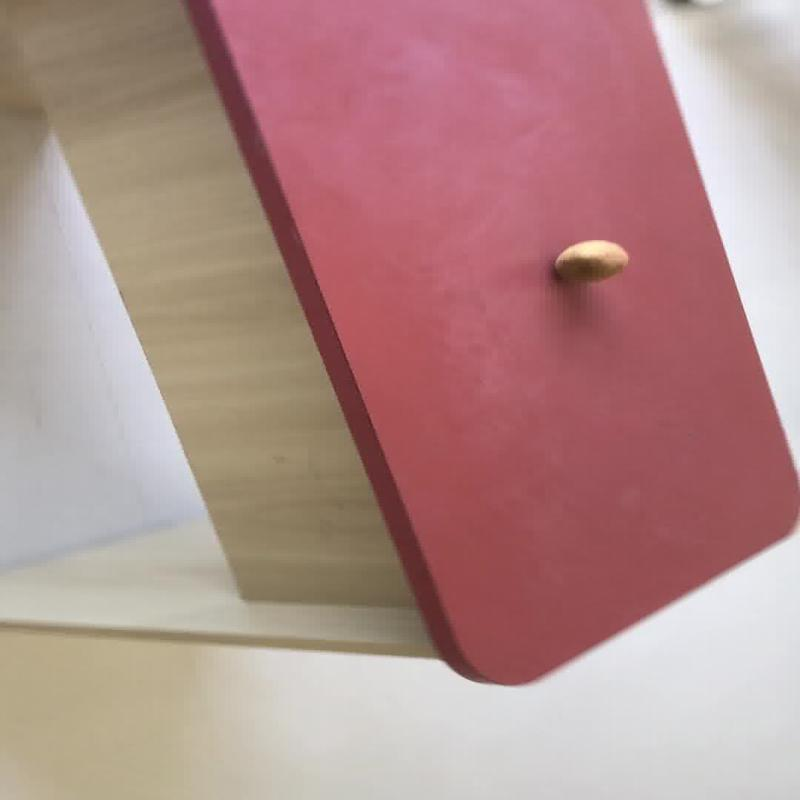kiwi: (551, 239, 628, 280)
